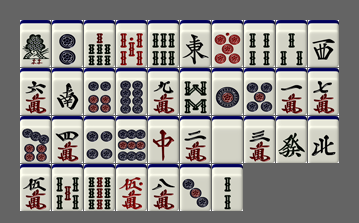0m: (116, 164, 147, 211)
0p: (212, 20, 243, 67)
0s: (116, 20, 147, 67)
1m: (276, 68, 307, 115)
1p: (212, 68, 243, 115)
1s: (20, 20, 51, 67)
1z: (180, 20, 211, 67)
2m: (180, 116, 211, 163)
2p: (52, 20, 83, 67)
2s: (212, 164, 243, 211)
2z: (52, 68, 83, 115)
3m: (244, 116, 275, 163)
3p: (180, 164, 211, 211)
3s: (276, 20, 307, 67)
3z: (308, 20, 339, 67)
4m: (52, 116, 83, 163)
4p: (84, 116, 115, 163)
4s: (244, 20, 275, 67)
4z: (308, 116, 339, 163)
5m: (20, 164, 51, 211)
5p: (244, 68, 275, 115)
5s: (52, 164, 83, 211)
5z: (212, 116, 243, 163)
6m: (20, 68, 51, 115)
6p: (84, 68, 115, 115)
6s: (148, 20, 179, 67)
6z: (276, 116, 307, 163)
7m: (308, 68, 339, 115)
7p: (20, 116, 51, 163)
7s: (84, 20, 115, 67)
7z: (148, 116, 179, 163)
8m: (148, 164, 179, 211)
8p: (116, 68, 147, 115)
8s: (180, 68, 211, 115)
9m: (148, 68, 179, 115)
9p: (116, 116, 147, 163)
9s: (84, 164, 115, 211)
